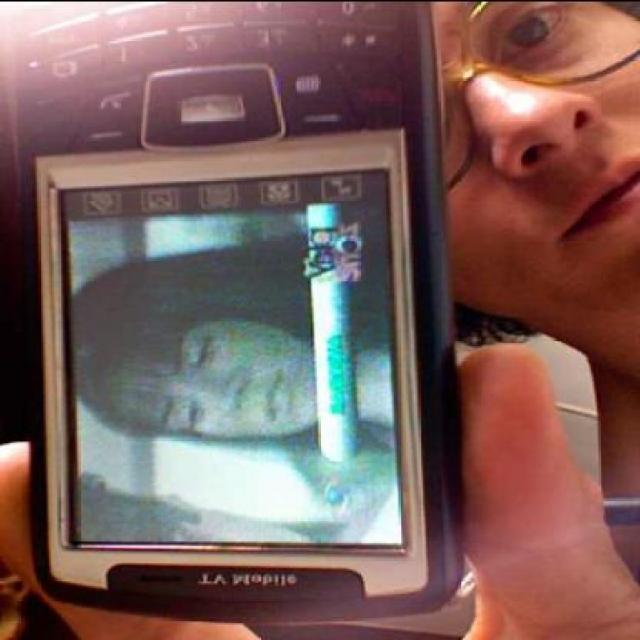phone: (57, 60, 481, 623)
